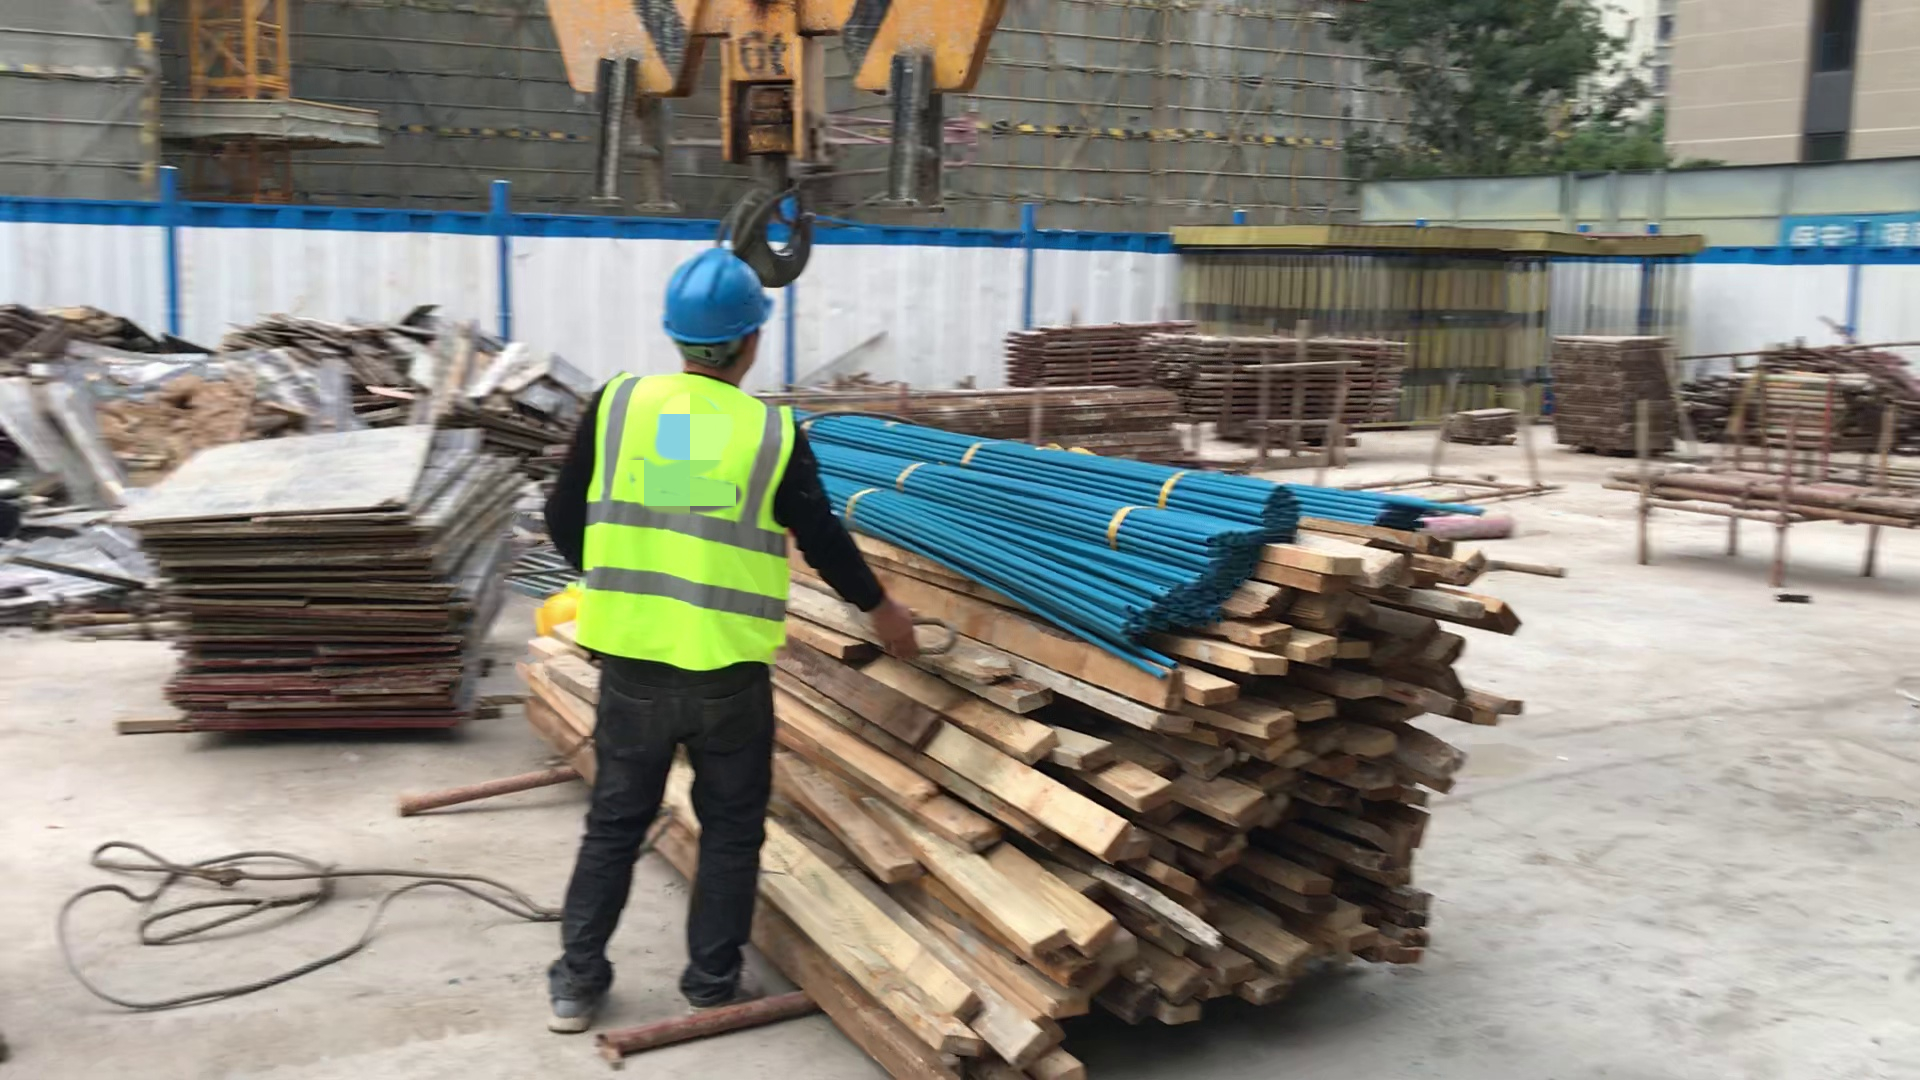board: (2, 265, 603, 661), (110, 435, 553, 741)
helmet: (648, 238, 798, 360)
hook: (469, 1, 1073, 326)
person: (538, 243, 952, 1045)
scaffold: (999, 292, 1445, 464), (1735, 343, 1920, 452)
slogan: (1777, 205, 1920, 268)
vest: (580, 364, 813, 685)
wood: (507, 377, 1625, 1080)
